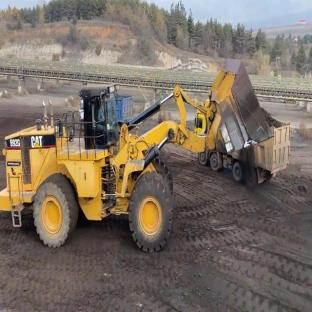ExcavationMachinery: (72, 70, 266, 238)
